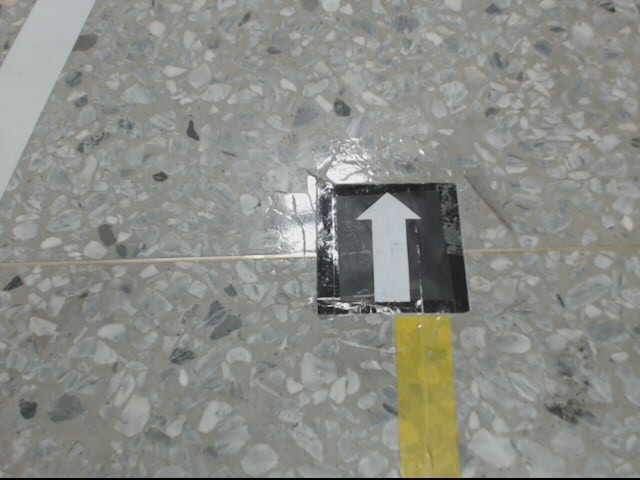straight: (316, 180, 475, 316)
